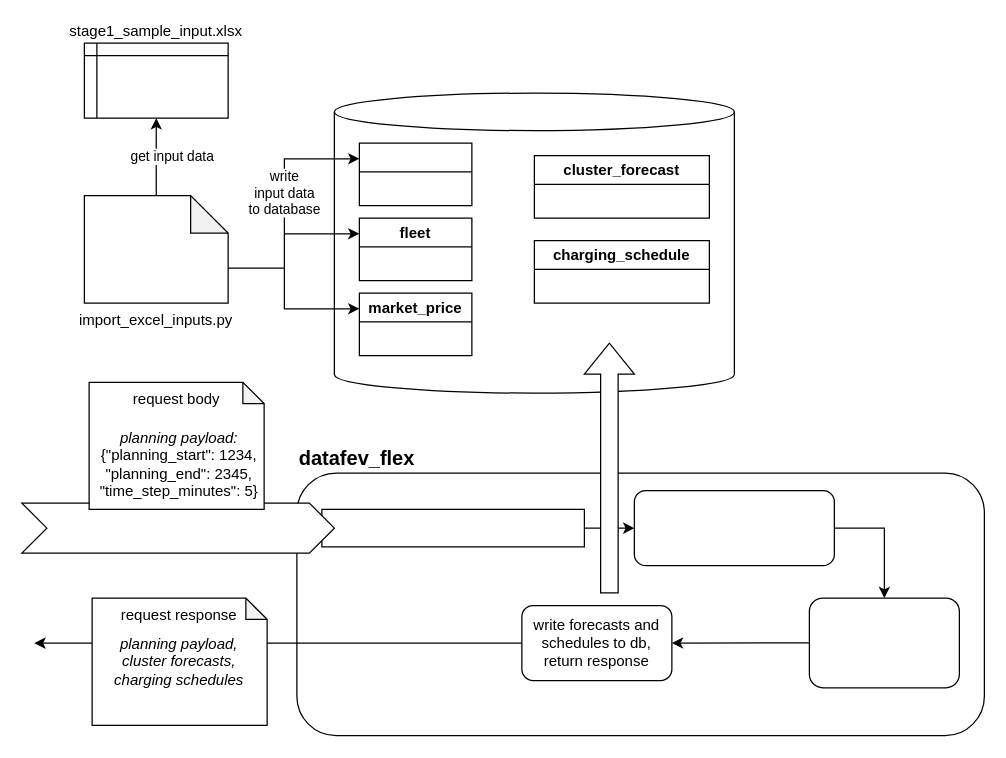
This 1006x758 diagram has some shape labels left out. Here are the shapes that lost their labels. From the top down, the centre of each, then its label:
point 415,174: cluster
point 177,527: REQUEST
point 452,527: /v1/compute_forecasts
point 733,527: read cluster, fleet and day-ahead market prices for given planning payload
point 883,642: compute cluster forecasts and charging schedules
